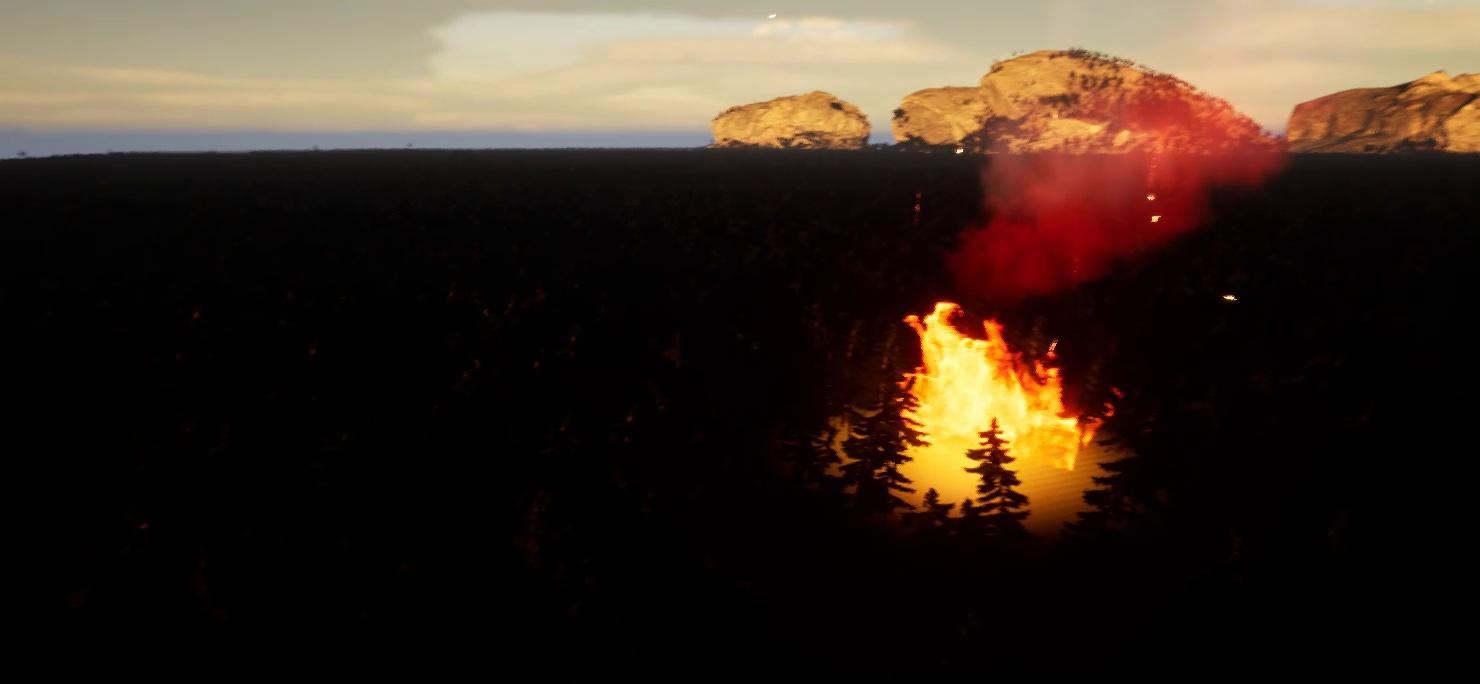fire: (892, 301, 1115, 475)
smoke: (954, 86, 1290, 293)
